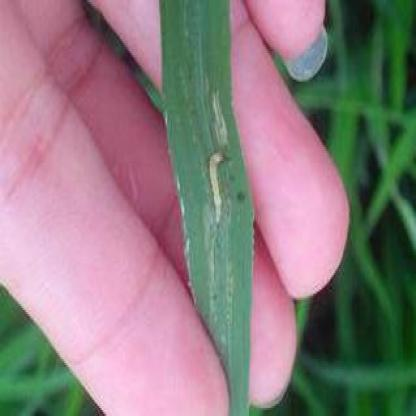leaf-folder: (205, 140, 229, 226)
